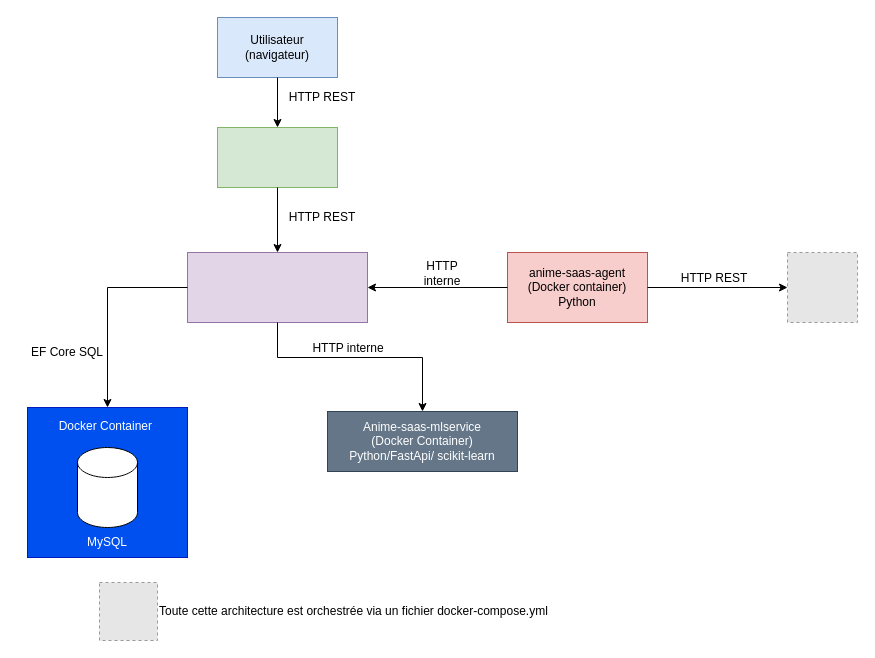
The diagram is 875 pixels wide and 658 high, and some of its shapes have lost their labels. Grey dashed boxes stand in for pictures. The shapes that lost their labels are listed below. From the top down, each one's box as (x1, y1, x2, y2) in pixels, then its label:
(216, 126, 338, 188): Anime-saas-front (Docker container) Nuxt/Nginx
(186, 252, 368, 322): Anime-saas-api (Docker container) .NET/Kestrel
